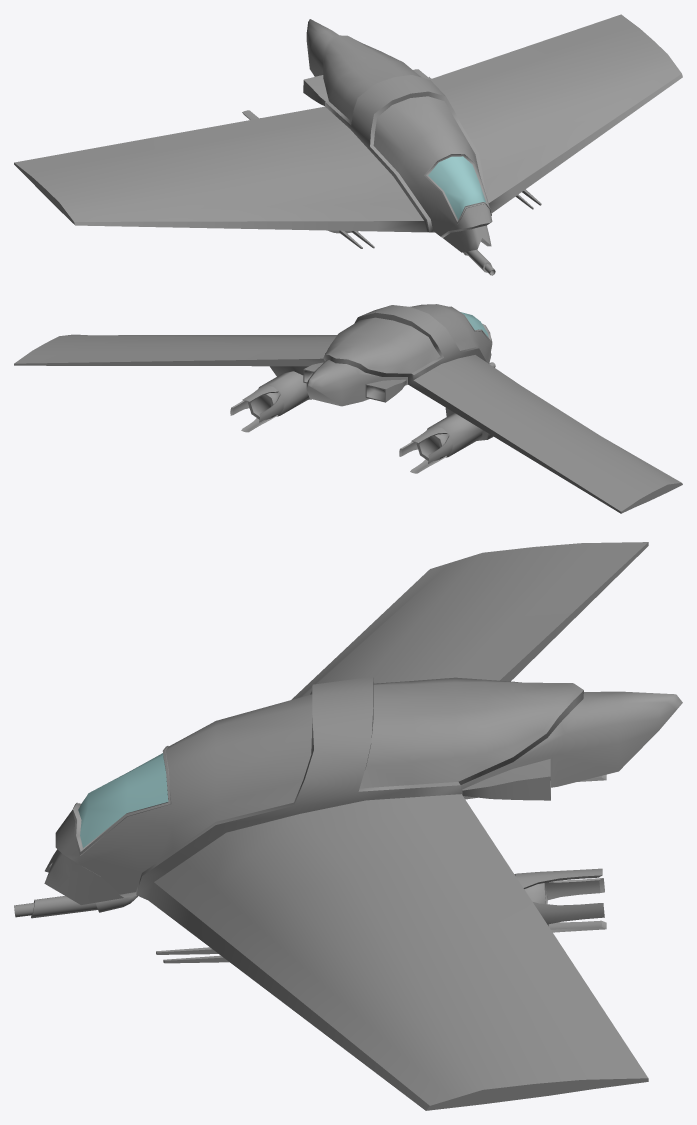
File: aircraft_01.FBX
The picture shows the model from 3 angles, top to bottom: view 1: azimuth 30°, elevation 25°; view 2: azimuth 150°, elevation 25°; view 3: azimuth 270°, elevation 25°; orthographic projection. The views are drawn at different scales.
Visible parts, largest first — view 1: Box001; view 2: Box001; view 3: Box001.
Part boxes in pixels (<box>): Box001: <box>14,14,682,275</box>; Box001: <box>14,304,682,513</box>; Box001: <box>14,542,682,1110</box>.
Size of the model in its own units: 11.74 by 2.33 by 6.18.
